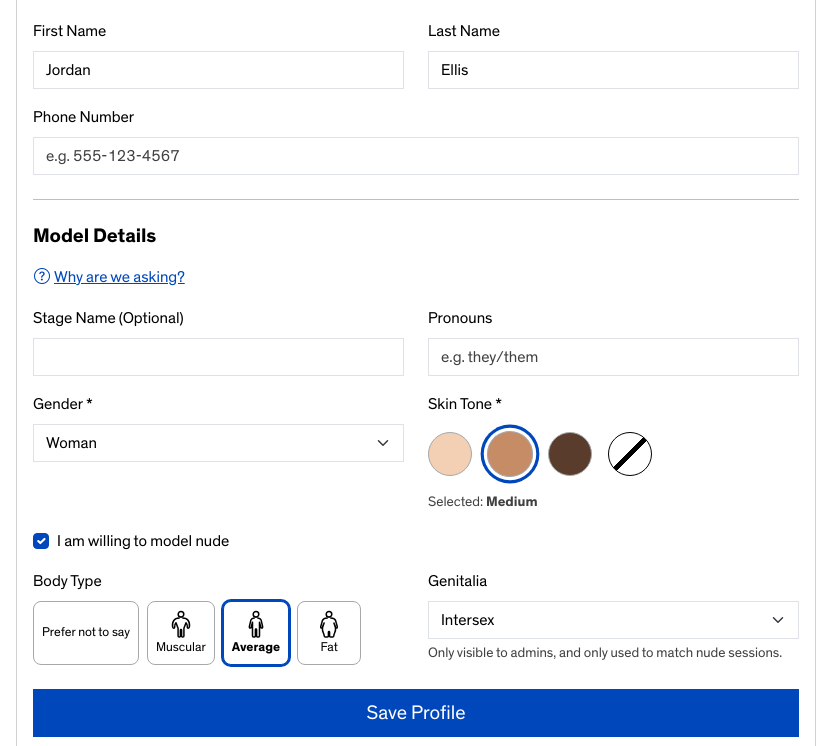
Test case: Profile › shows an error when saving fails
(page scrolled)
Click the button "Save Profile": (416, 713) [33,689,799,737]
(page scrolled)
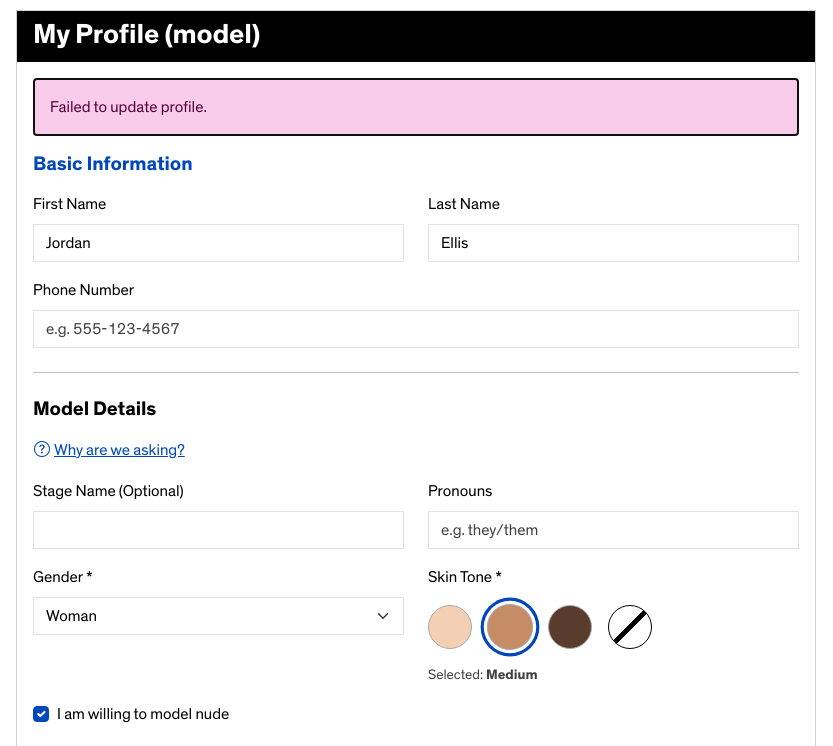
Result: the text "Failed to update profile." is shown at [33,78,799,136]
